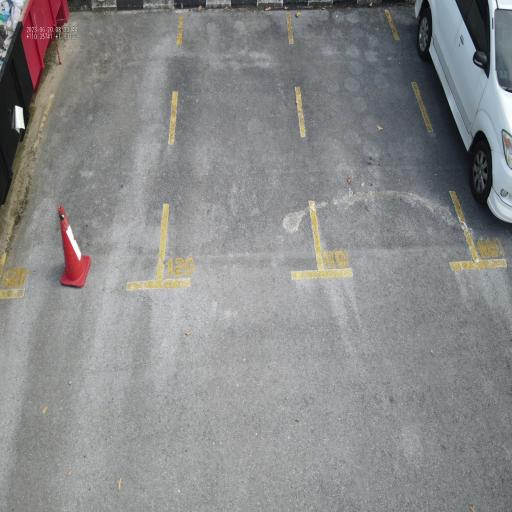Empty: (282, 7, 483, 285), (152, 0, 330, 297)
